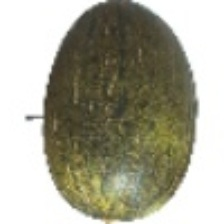honeydew: (7, 29, 197, 186)
